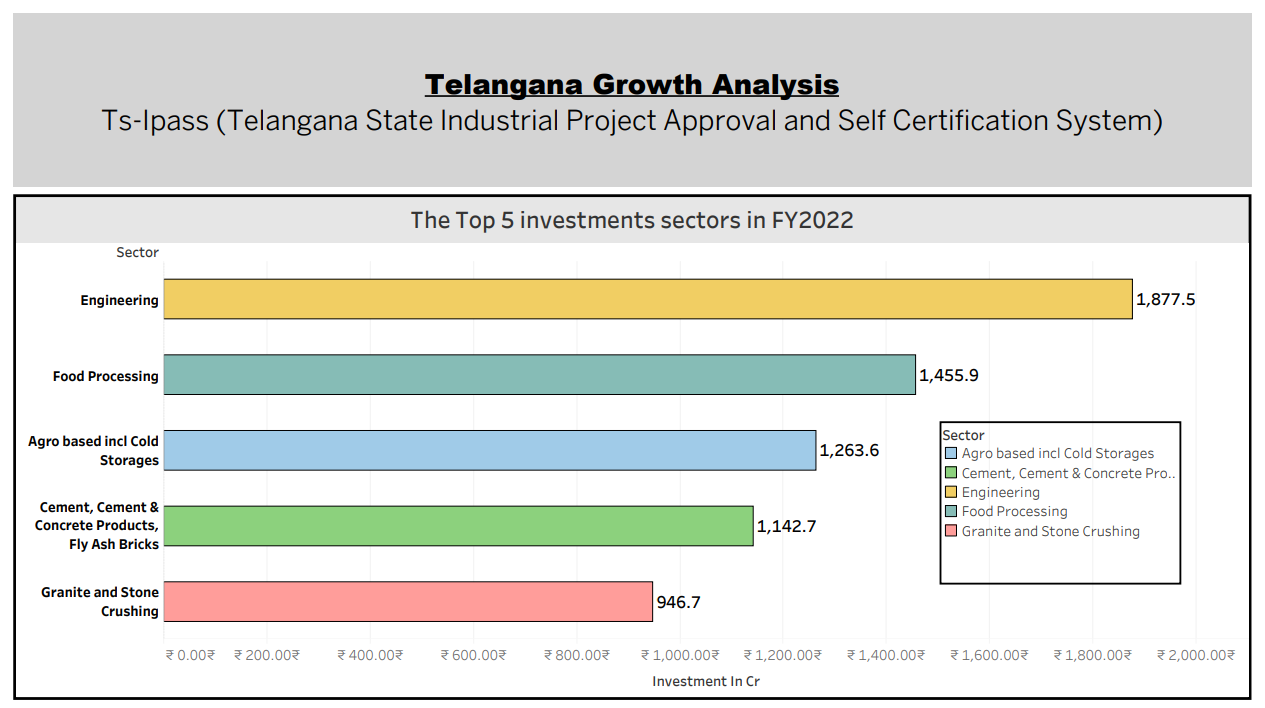

The page's visual inventory and layout, read from the dashboard file:
{"tool":"tableau","page":{"name":"Dashboard 1","canvas":[1366,768],"ordinal":0},"visuals":[{"type":"text","box":[8,8,1350,195.7]},{"type":"worksheet","title":"The Top 5 investments sectors in FY2022","mark":"Bar","rows":["sector"],"cols":["investment in cr"],"box":[8,203.7,1350,556.3]},{"type":"legend","title":"The Top 5 investments sectors in FY2022","param":"[federated.0t0g3mt1srhalk154skvl09v1gsr].[none:sector:nk]","box":[1016,454,262,177]}]}

Visuals, with their boxes in screenshot pixels (x1, y1, x2, y2), scaled from the page's 1366x768 canvas onto the 1265x708 screenshot:
text: 7, 7, 1258, 188
"The Top 5 investments sectors in FY2022" worksheet (Bar marks): 7, 188, 1258, 701
"The Top 5 investments sectors in FY2022" legend: 941, 419, 1184, 582
